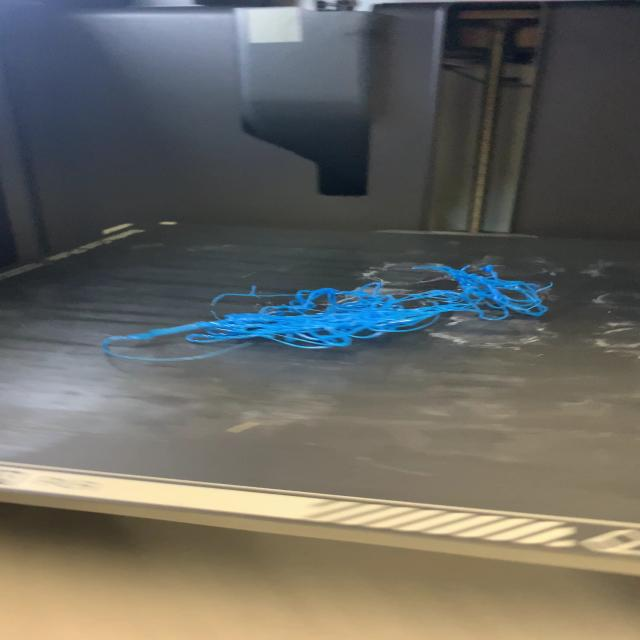spaghetti: (97, 260, 557, 364)
